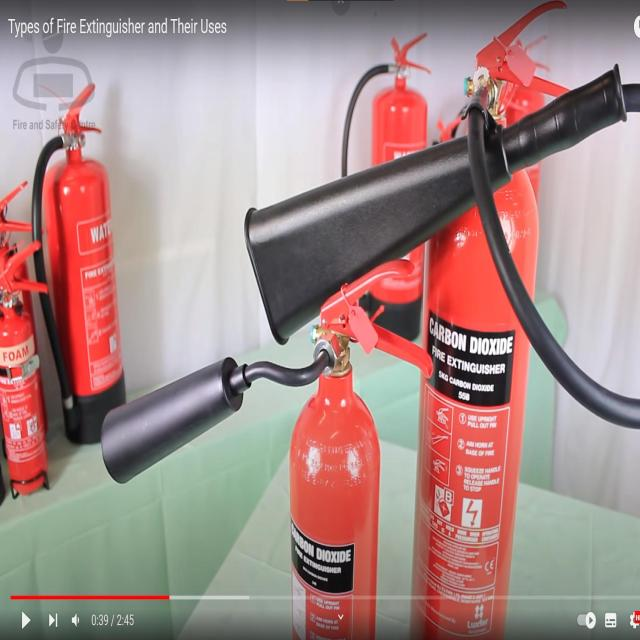fire_extinguisher: (240, 2, 640, 639), (96, 255, 436, 640), (26, 69, 143, 451), (333, 23, 437, 349), (0, 238, 52, 507)
